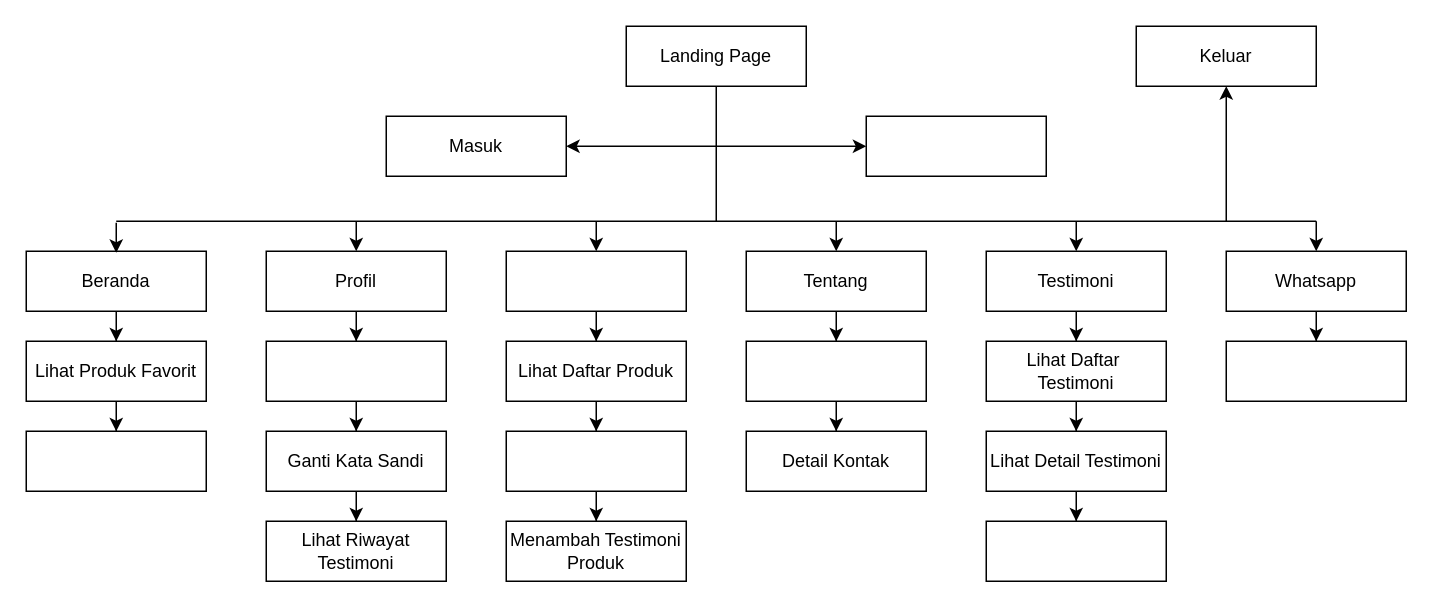
The diagram is 1433 pixels wide and 608 high, and some of its shapes have lost their labels. The shapes that lost their labels are listed below. From the top down, each one's centre as x and y in pixels, then its label:
At pixel 955 145: "Daftar".
At pixel 595 280: "Produk".
At pixel 355 370: "Ubah Data".
At pixel 835 370: "Informasi Toko".
At pixel 1315 370: "Link ke Whatsapp".
At pixel 115 460: "Lihat Testimoni Toko".
At pixel 595 460: "Lihat Detail Produk".
At pixel 1075 550: "Tambah Testimoni".
